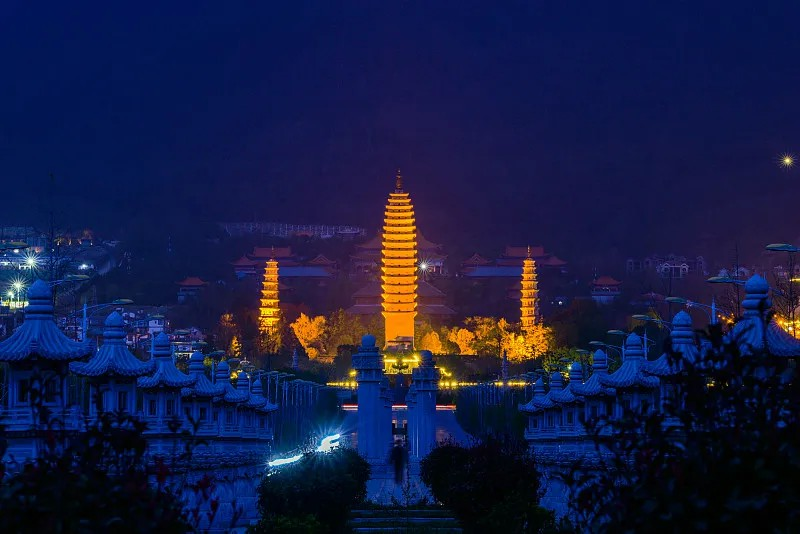ThreePagoda: (380, 170, 418, 342)
